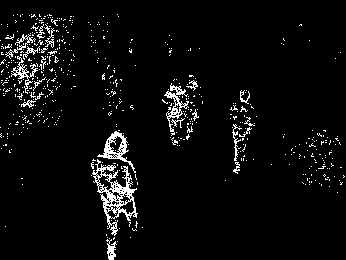person: (89, 131, 140, 260), (227, 86, 258, 175), (163, 79, 189, 147), (182, 73, 204, 143)
